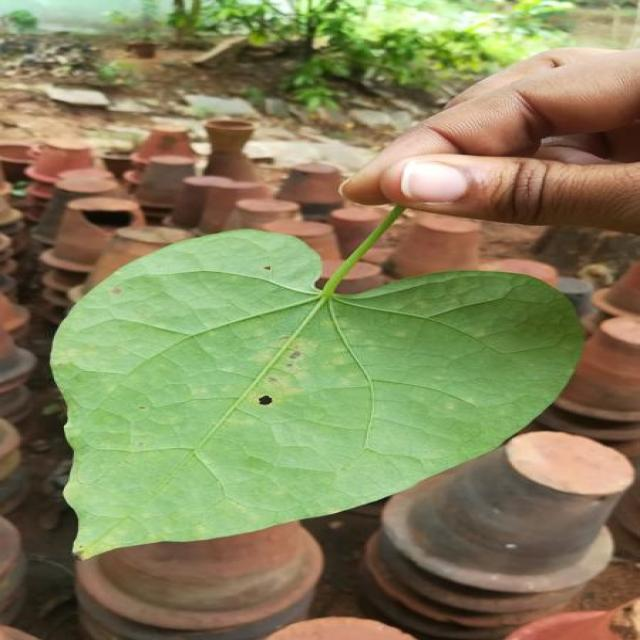Amruthaballi: (52, 208, 582, 558)
defectedAmruthaballi: (200, 306, 368, 471)
